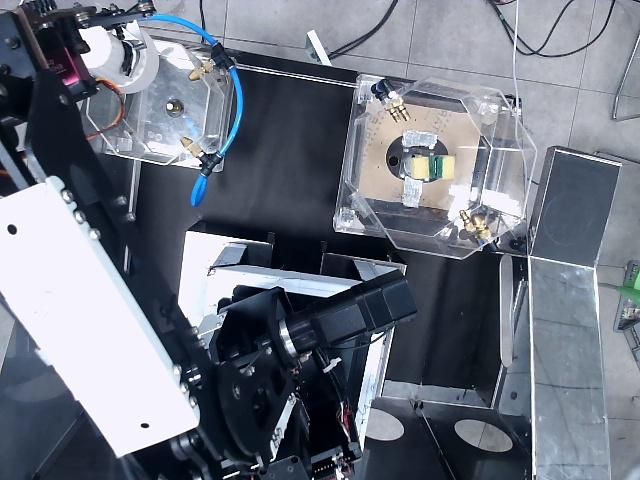cup: (80, 26, 158, 93)
